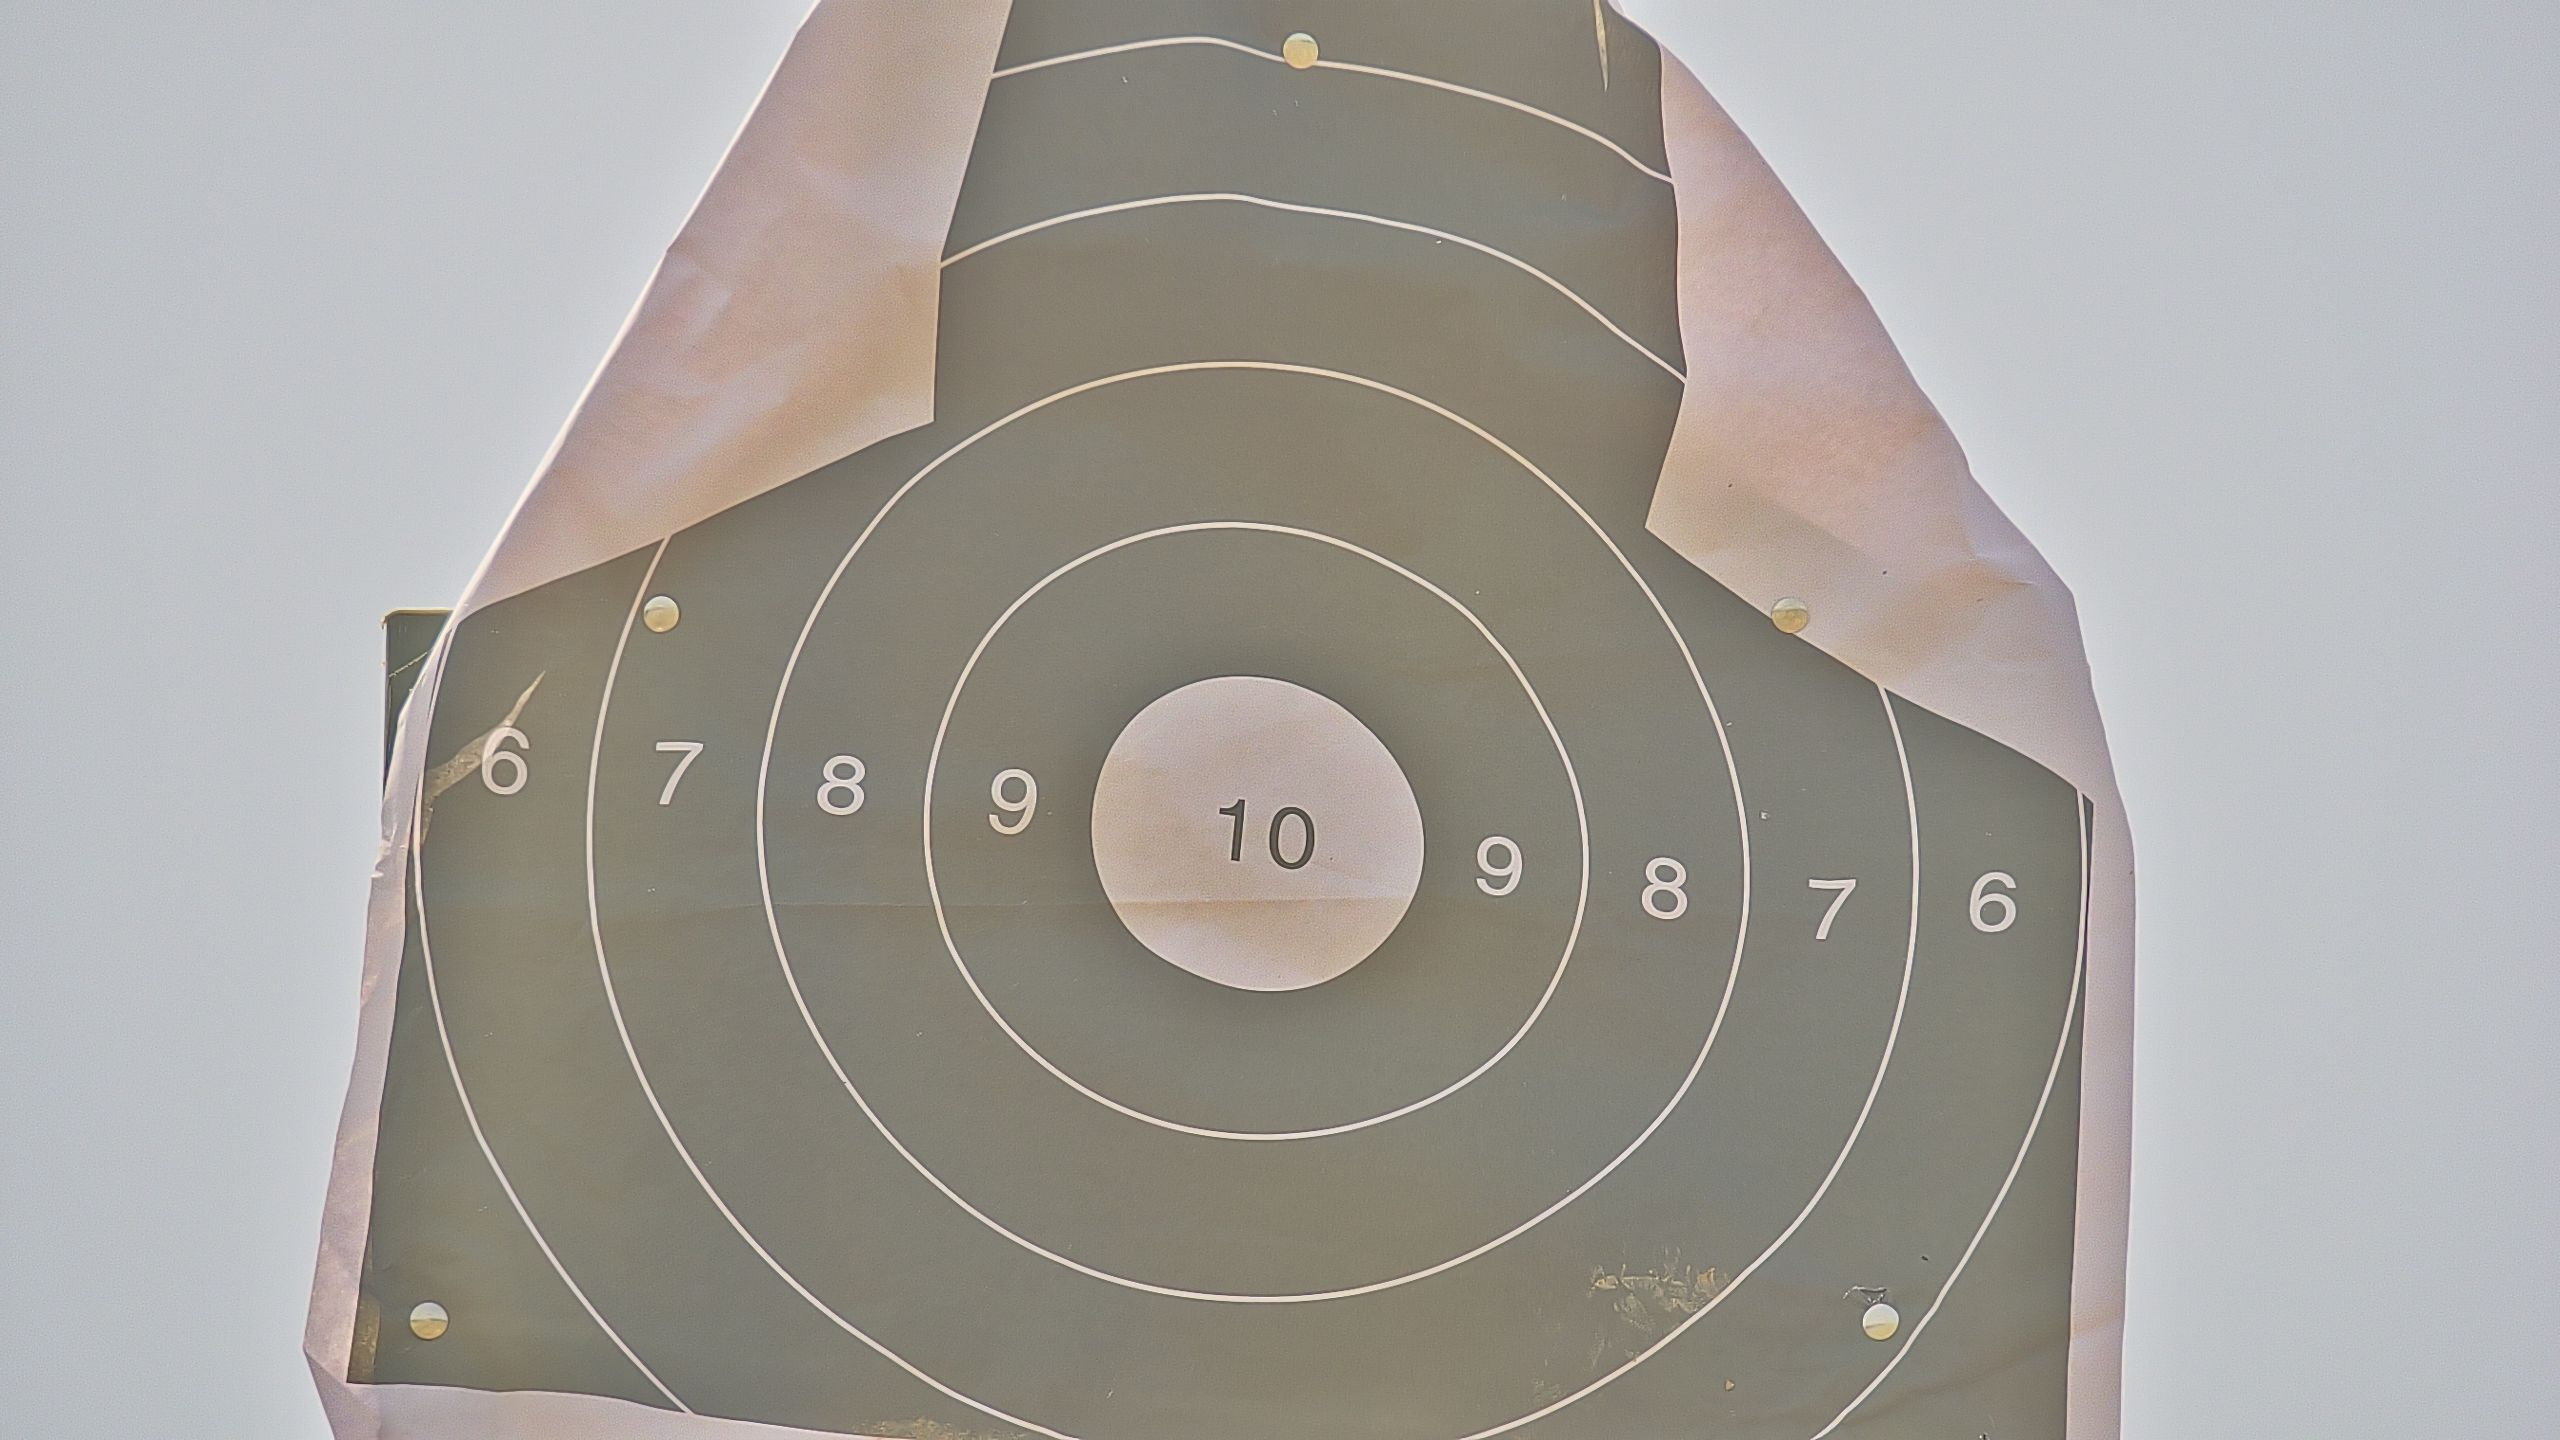target: (345, 5, 2099, 1440), (1254, 832, 1255, 839)
ten: (1094, 672, 1424, 995)
